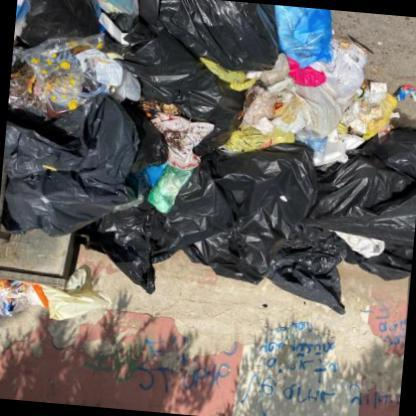Garbage: (142, 0, 410, 284), (5, 0, 281, 258), (211, 77, 415, 309), (0, 262, 118, 331)
